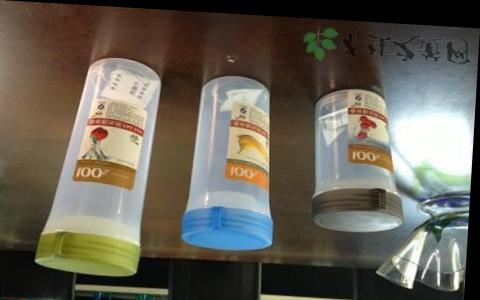plastic: (35, 58, 160, 275), (181, 76, 272, 250), (312, 89, 401, 232)
